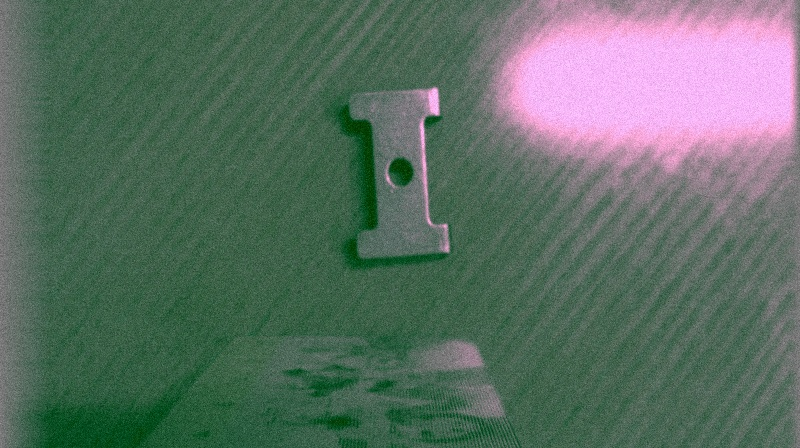O002: (346, 85, 452, 271)
